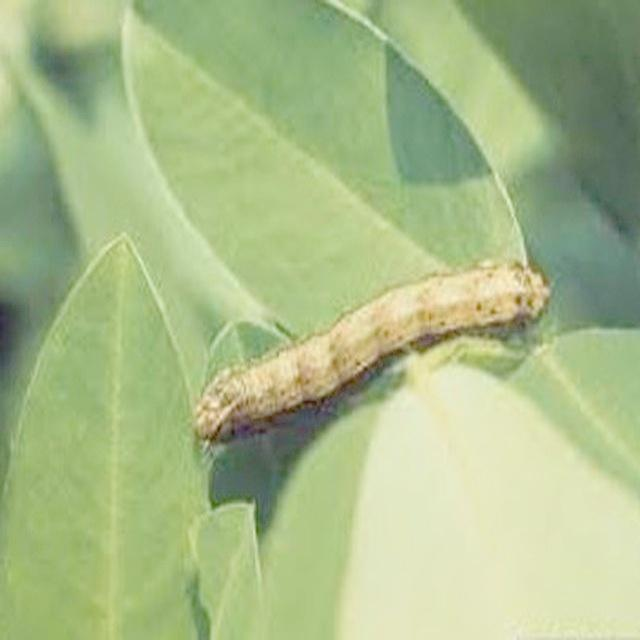gusano_cogollero: (187, 256, 556, 445)
